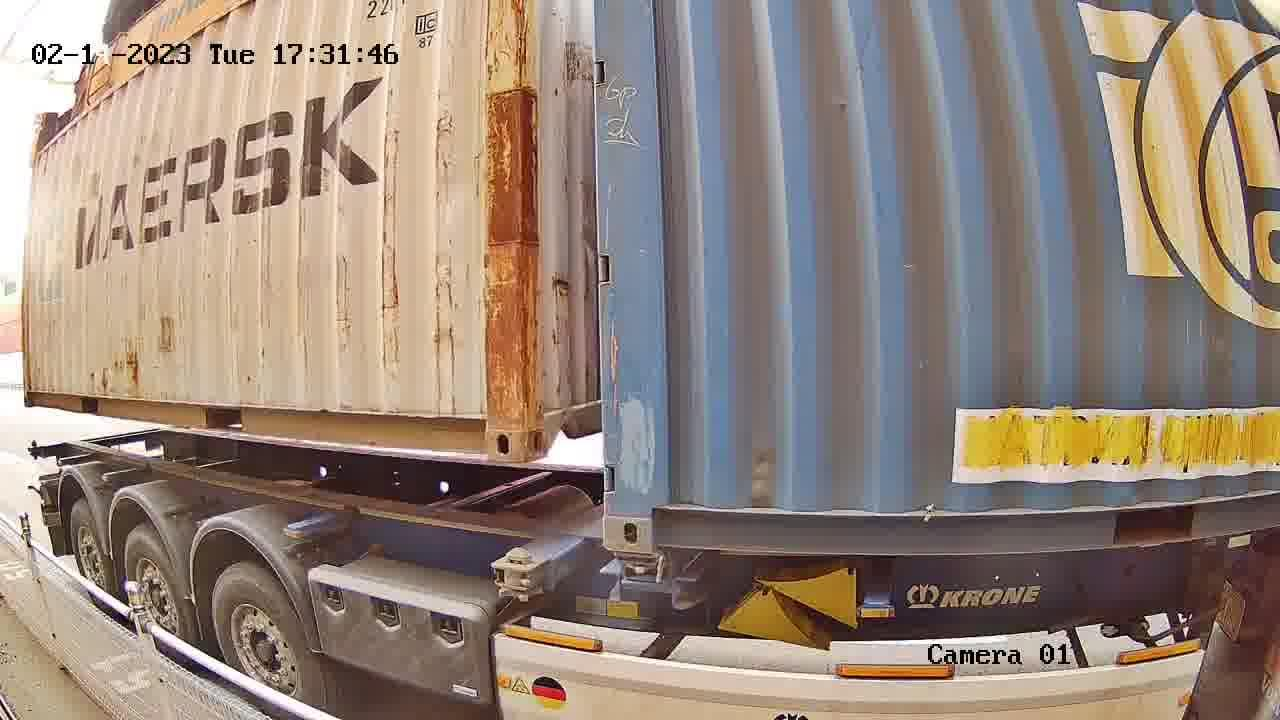Cone: (493, 547, 541, 601), (613, 555, 667, 583)
Hole_L: (603, 472, 697, 556), (523, 401, 576, 461)
Hole_R: (459, 403, 523, 461)
Tire: (214, 564, 322, 716), (124, 528, 193, 658), (71, 501, 111, 609)
